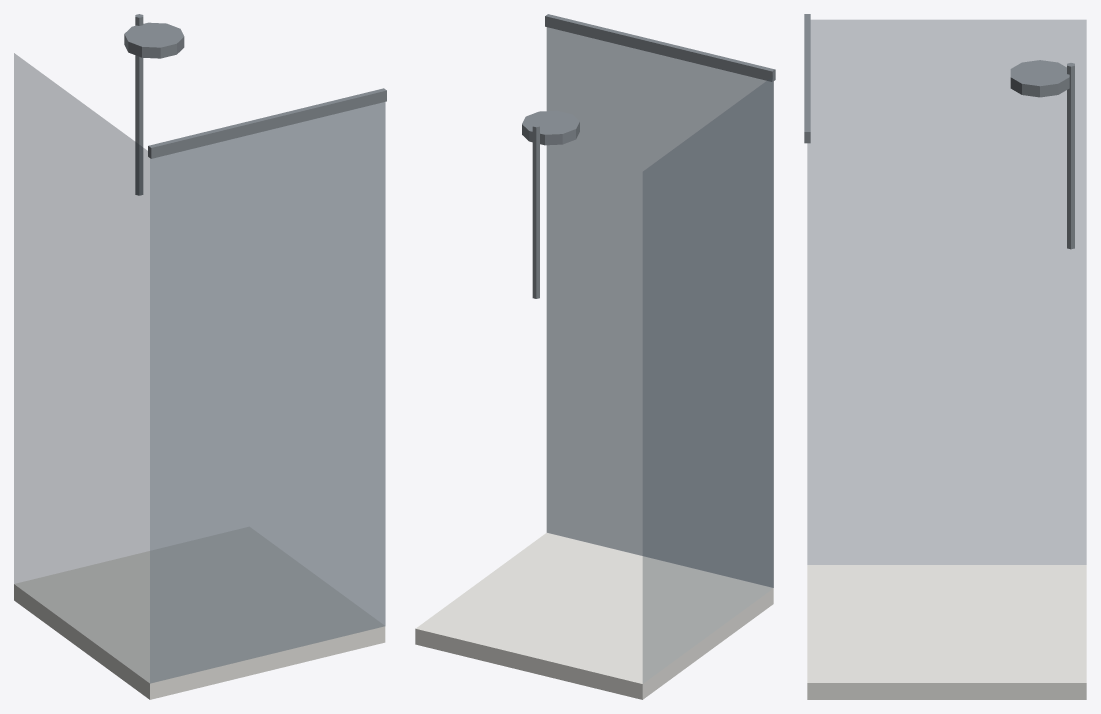
The model's file is Shower.fbx.
The picture shows the model from 3 angles, left to right: view 1: azimuth 30°, elevation 25°; view 2: azimuth 150°, elevation 25°; view 3: azimuth 270°, elevation 25°; orthographic projection. The views are drawn at different scales.
Parts seen in each view (by area): view 1: Shower; view 2: Shower; view 3: Shower.
Boxes of the visible parts, <box> form: Shower: <box>14,14,386,699</box>; Shower: <box>415,14,775,699</box>; Shower: <box>804,14,1086,699</box>.
Size of the model in its own units: 90.12 by 205 by 91.
